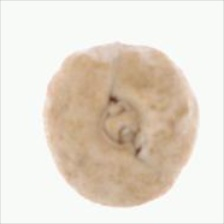L3: (100, 96, 148, 154)
L4: (42, 43, 200, 208)
